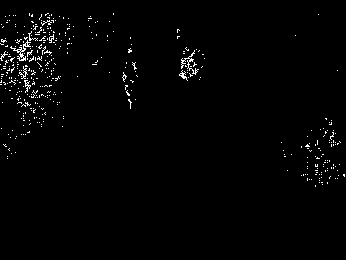person: (121, 59, 138, 110)
